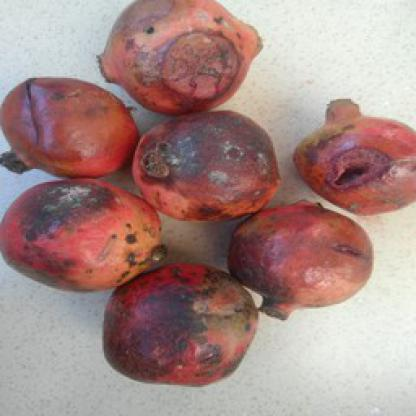pomegranate_rotten: (91, 0, 263, 117), (100, 262, 258, 386), (0, 179, 168, 292), (226, 194, 374, 316), (128, 108, 280, 224), (289, 92, 415, 217), (0, 71, 137, 181)
